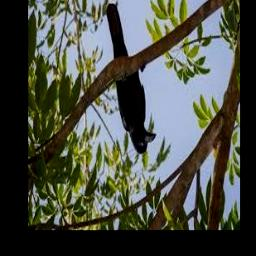Crow: (107, 3, 155, 154)
